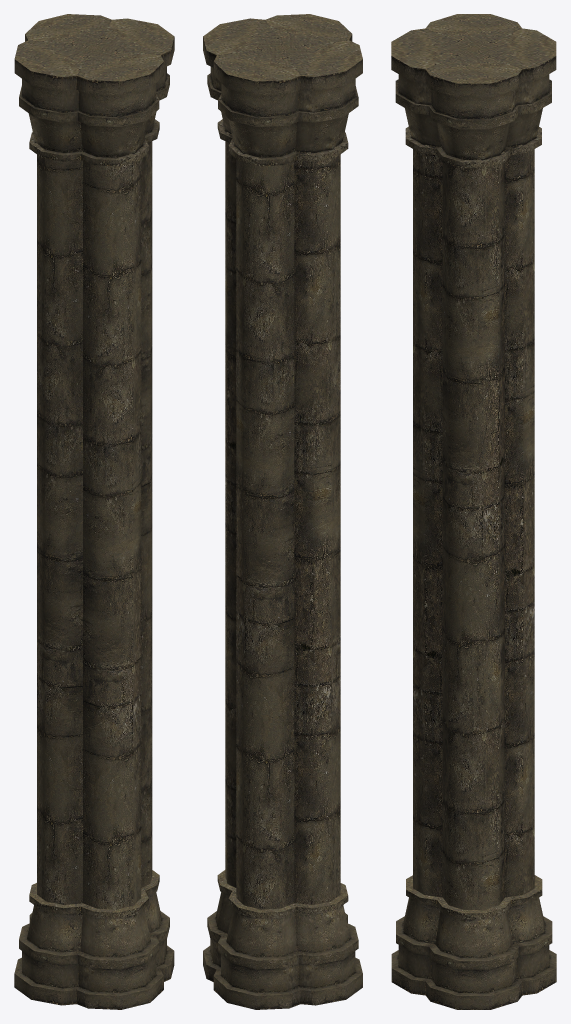
The model's file is NC_pillar_arch.DAE.
3 views of the same model, side by side, from view 1: azimuth 30°, elevation 25°; view 2: azimuth 150°, elevation 25°; view 3: azimuth 270°, elevation 25° (orthographic).
Parts seen in each view (by area): view 1: NC_pillar_arch; view 2: NC_pillar_arch; view 3: NC_pillar_arch.
Part boxes in pixels (box(x1,y1,x2,y2)): NC_pillar_arch: box(14, 14, 174, 1009); NC_pillar_arch: box(203, 14, 362, 1009); NC_pillar_arch: box(391, 14, 556, 1009).
Size of the model in its own units: 0.7935 by 0.7942 by 4.91.
